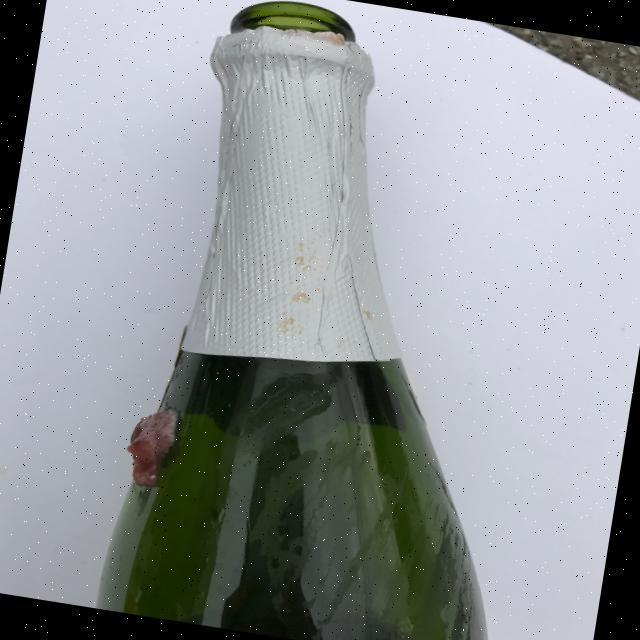glass: (95, 0, 589, 640)
